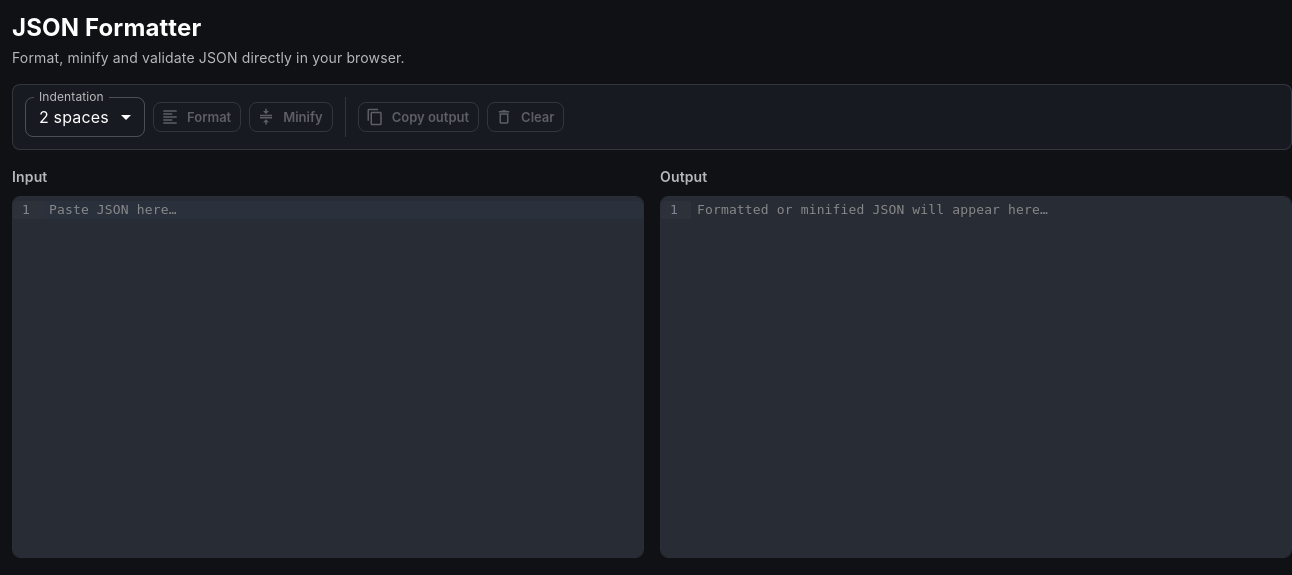
Test: JsonFormatterPage › clears both input and output and disables the toolbar again
Click the field labelled "Paste JSON here…": [343, 210] box [43, 197, 643, 223]
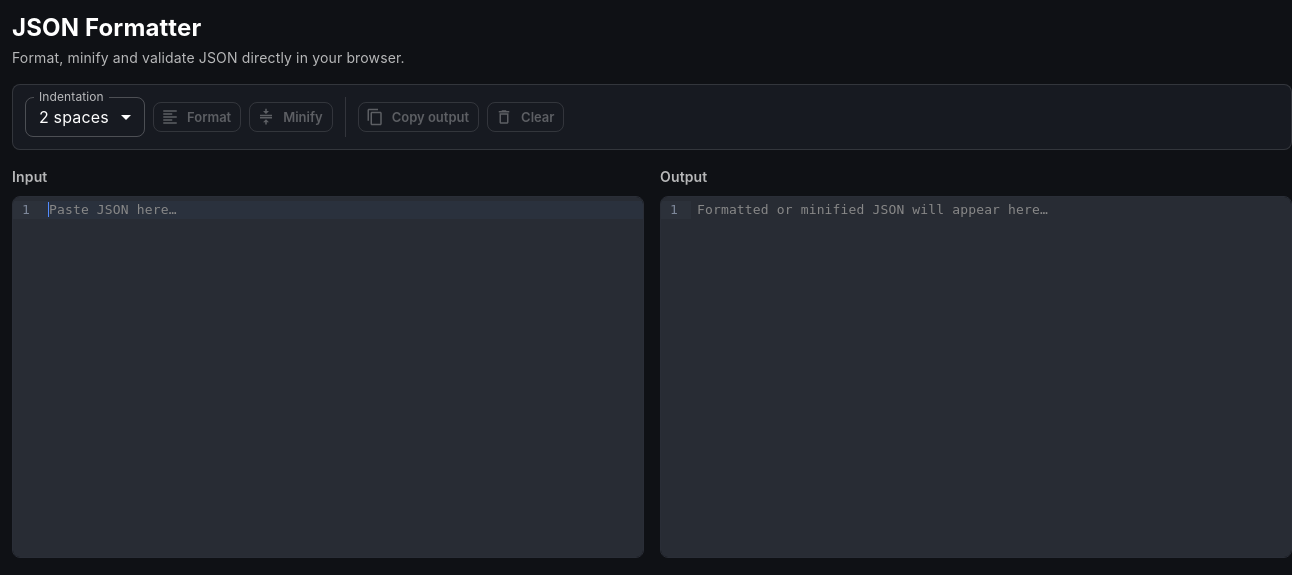
Type keys "{\"a\":1}"
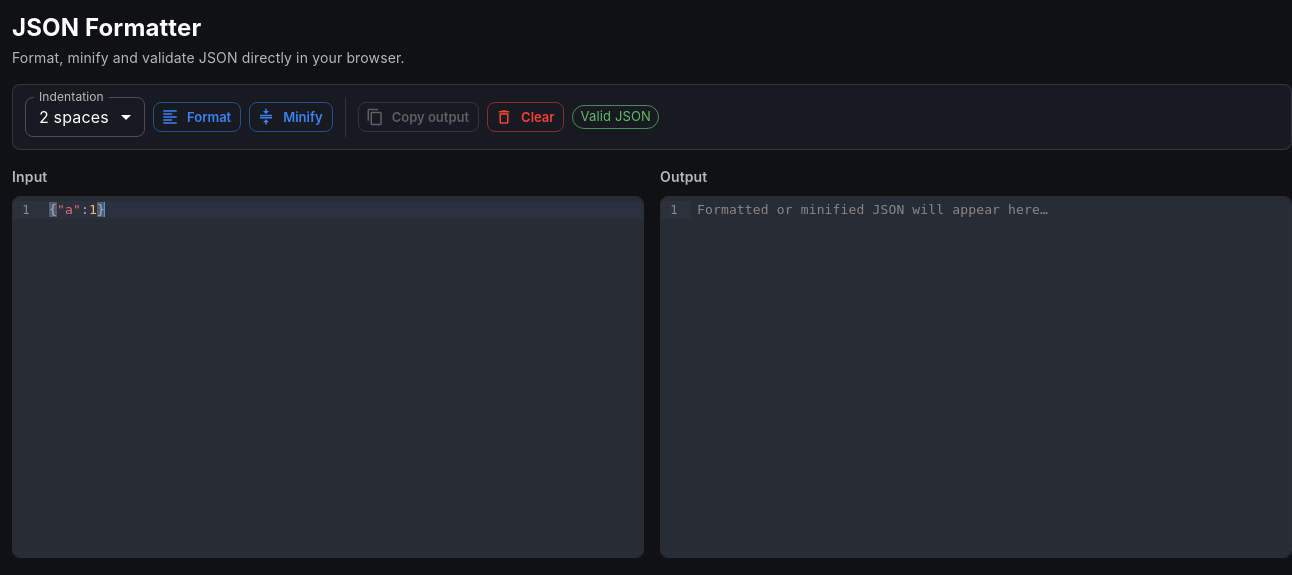
Click the button "Format": [197, 117] box [153, 102, 241, 132]
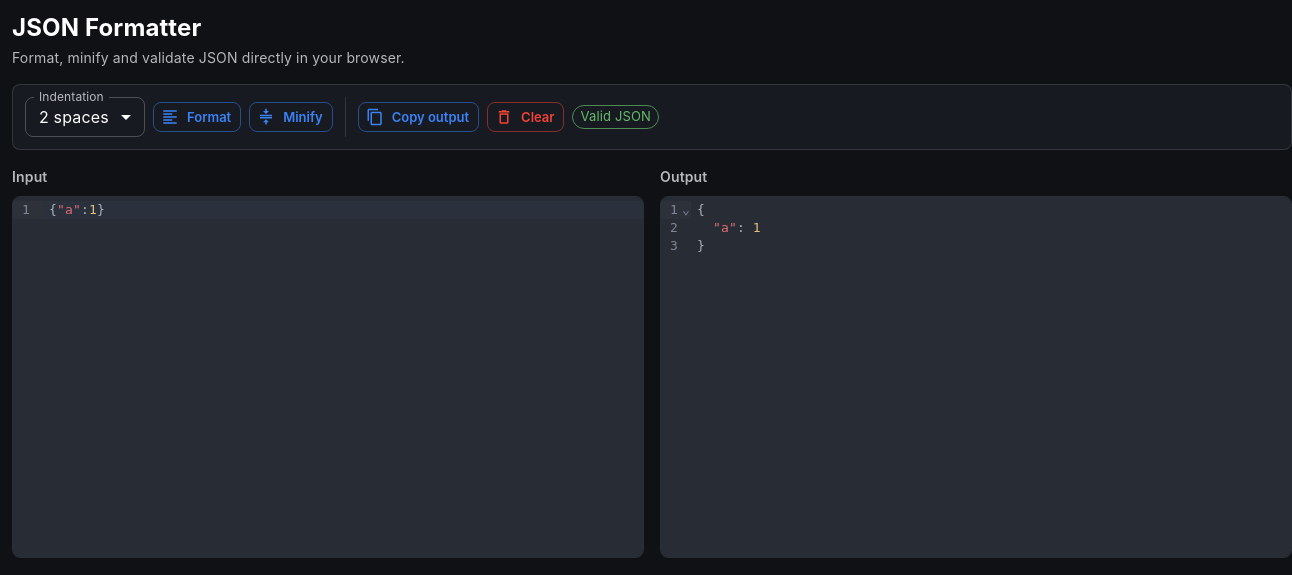
Expected: the button "Clear" is enabled
Click the button "Clear": [526, 117] box [487, 102, 564, 132]
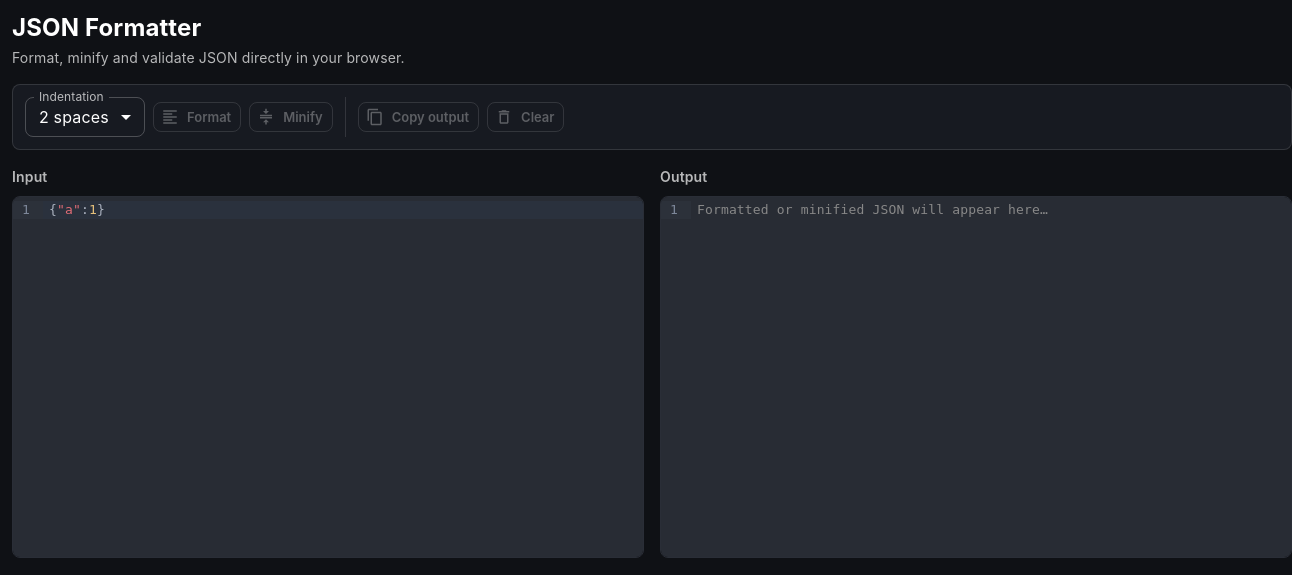
Expected: the button "Format" is disabled, [153, 102, 241, 132]
Expected: the button "Minify" is disabled, [249, 102, 333, 132]
Expected: the button "Clear" is disabled, [487, 102, 564, 132]
